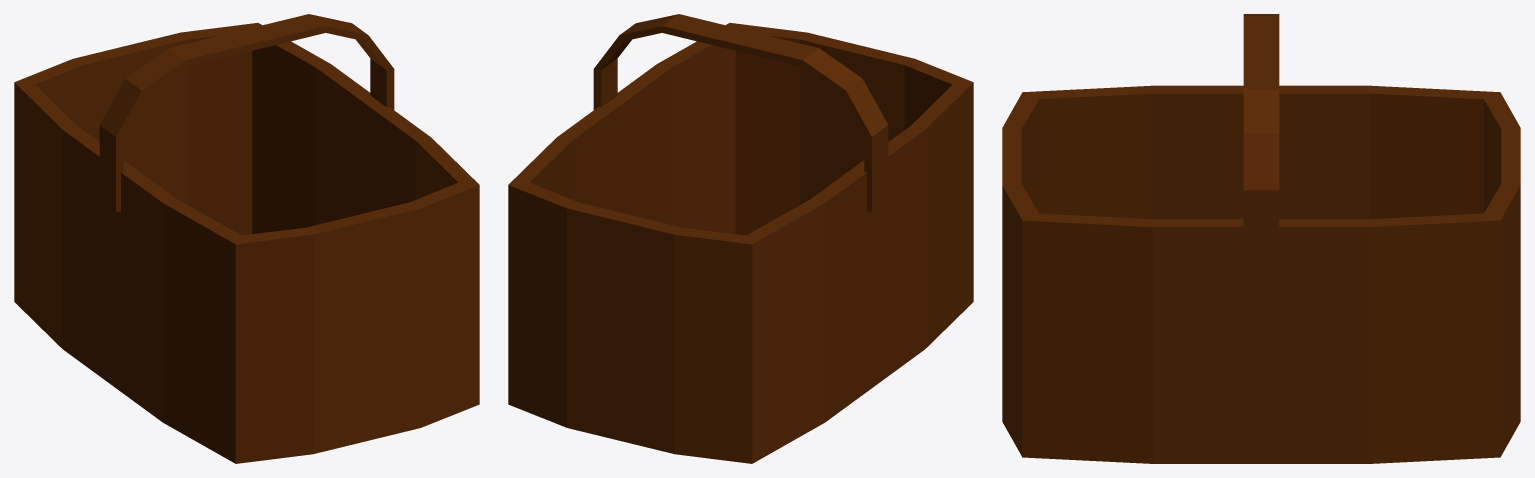
The model's file is Panier.FBX.
3 views of the same model, side by side, from view 1: azimuth 30°, elevation 25°; view 2: azimuth 150°, elevation 25°; view 3: azimuth 270°, elevation 25° (orthographic). The views are drawn at different scales.
Parts seen in each view (by area): view 1: Plane001, Plane002; view 2: Plane001, Plane002; view 3: Plane001, Plane002.
Part boxes in pixels (x1,y1,x2,y2): Plane001: (14,23,479,463); Plane002: (99,14,394,212); Plane001: (508,23,973,463); Plane002: (593,14,888,212); Plane001: (1002,85,1520,463); Plane002: (1243,14,1279,271).
Size of the model in its own units: 408 by 443 by 610.
